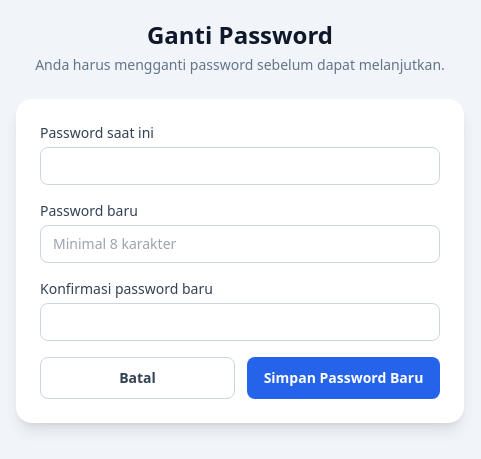
Test: ChangePasswordPage (T1.11a) › validasi client: password baru < 8 karakter → error inline tanpa fetch
The image size is (481, 459).
Type "Lama123!" into the password field labelled "Password saat ini" at (240, 166), box [40,147,440,185]
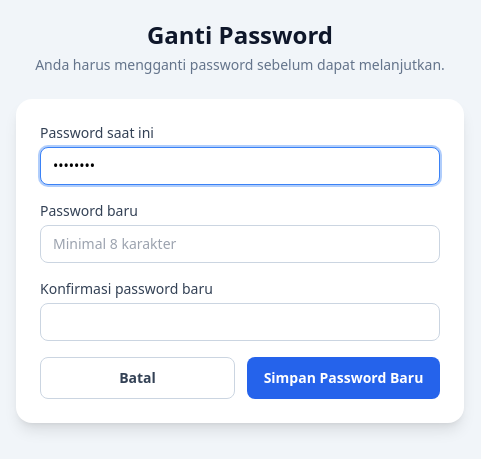
Type "pendek" into the password field labelled "Password baru" at (240, 244), box [40,225,440,263]
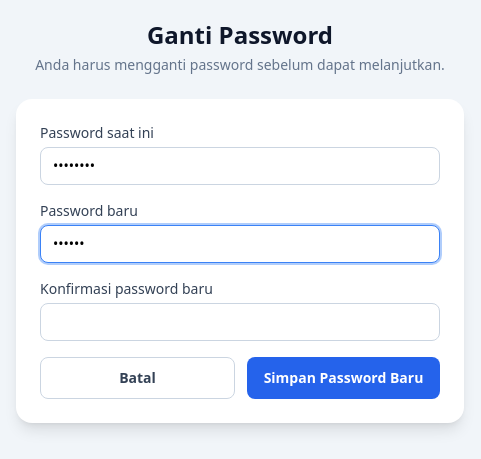
Type "pendek" into the password field labelled "Konfirmasi password baru" at (240, 322), box [40,303,440,341]
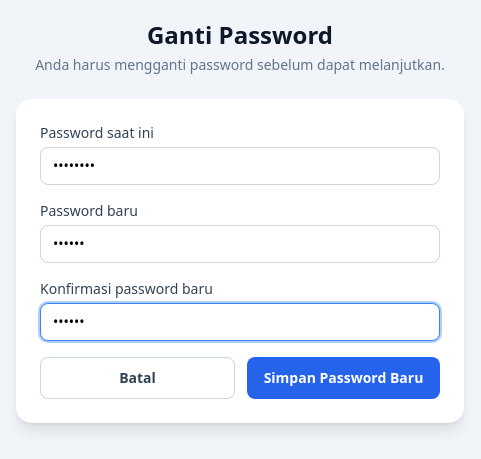
Click the button "Simpan Password Baru" at (344, 378), box [247,357,440,399]
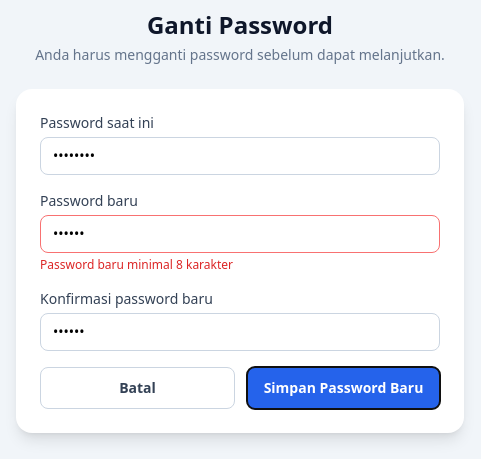
Result: the text "Password baru minimal 8 karakter" is shown at [40,256,233,273]
